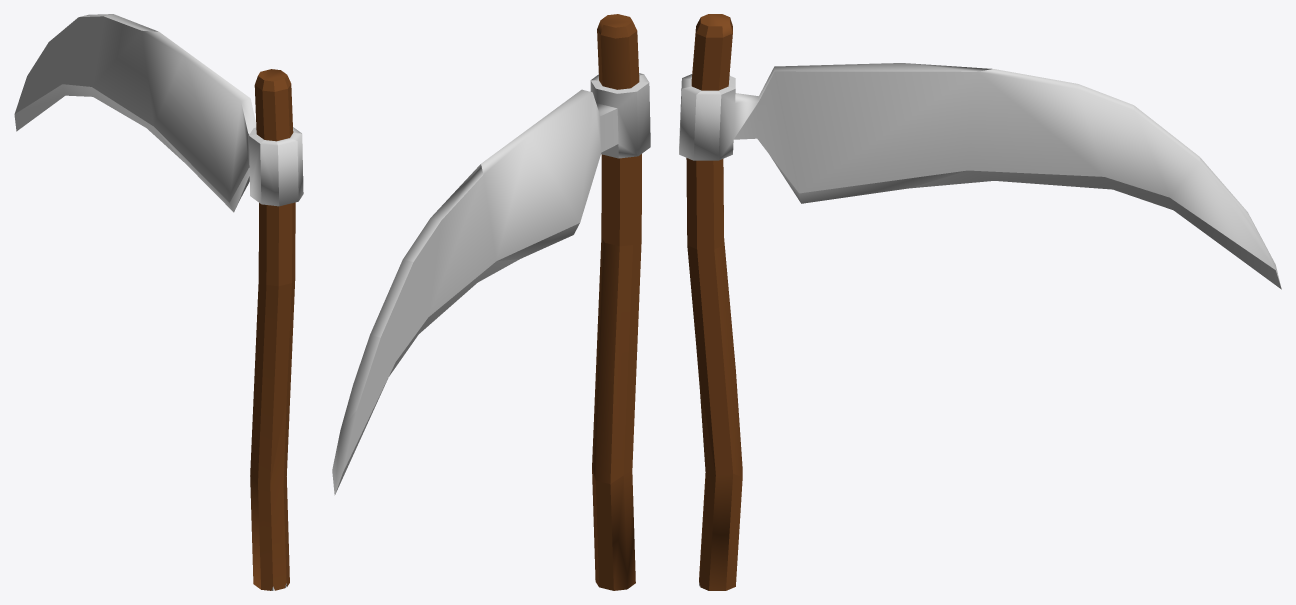
The model's file is Arit_model.fbx.
3 renders of one model, left to right at view 1: azimuth 30°, elevation 25°; view 2: azimuth 150°, elevation 25°; view 3: azimuth 270°, elevation 25°, orthographic. The views are drawn at different scales.
Parts seen in each view (by area): view 1: Arit; view 2: Arit; view 3: Arit.
Part boxes in pixels (<box>): Arit: <box>14,14,303,590</box>; Arit: <box>332,14,650,590</box>; Arit: <box>679,14,1281,590</box>.
Bounding box in the file's own units: 105 × 1208 × 1172.
